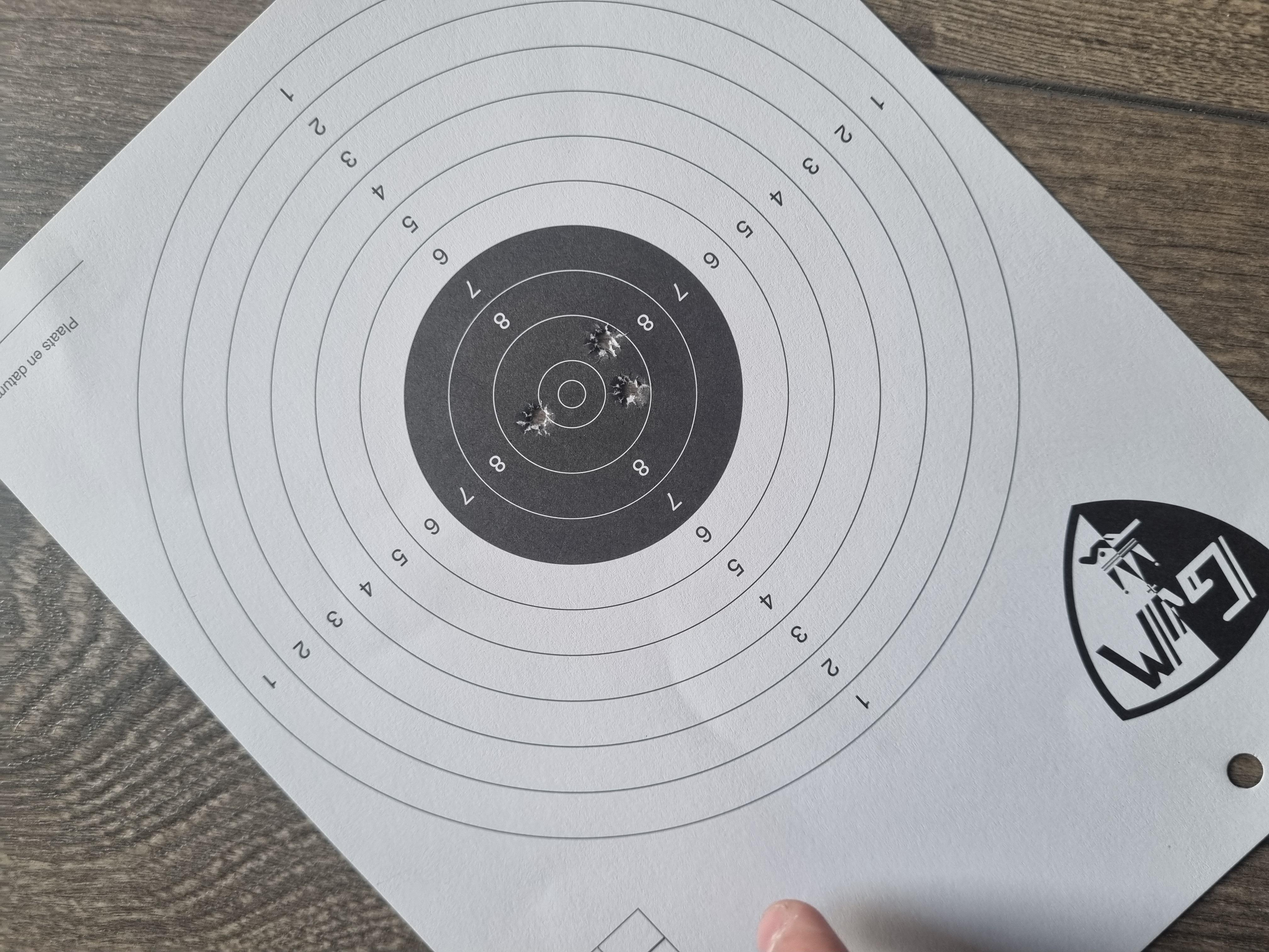hole: (785, 438, 840, 471), (725, 457, 771, 486), (685, 388, 734, 415)
